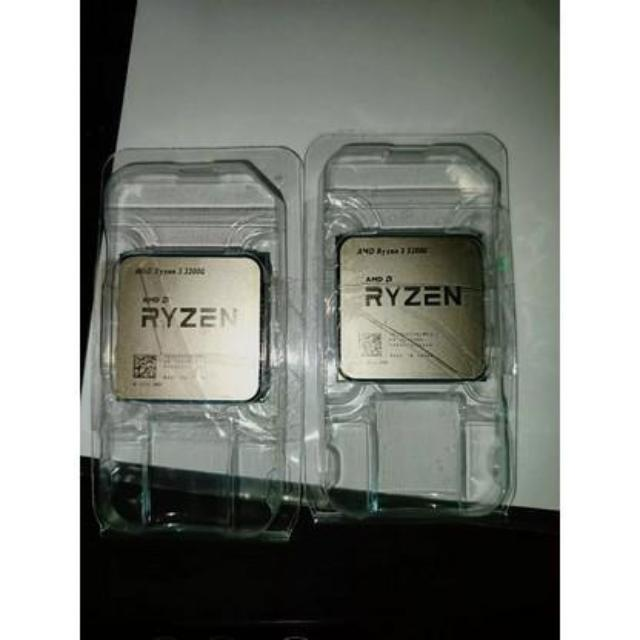CPU: (115, 252, 268, 406), (336, 238, 484, 382)
